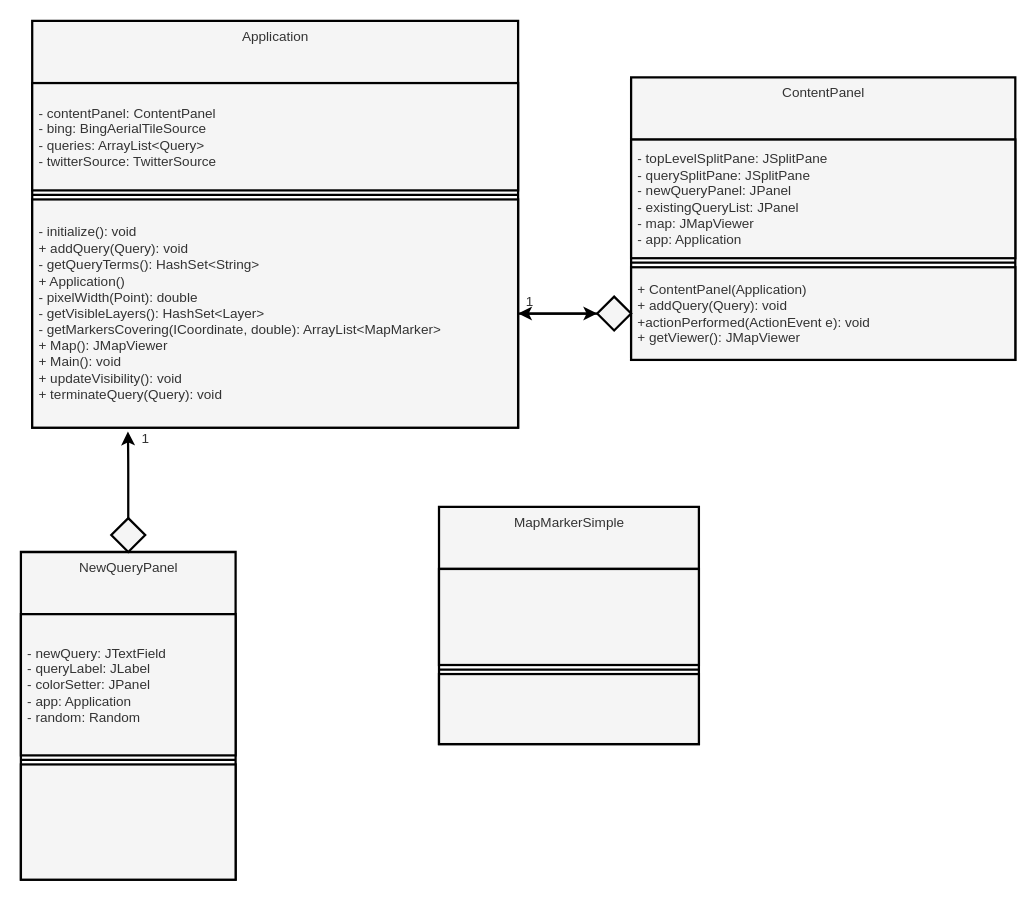
The diagram is 1035 pixels wide and 899 high, and some of its shapes have lost their labels. The centre of each missing label's shape, as x and y in pixels:
"+ defaultMakrerSize: double + defaultColor: Color" goes at point (568, 616).
"+ MapMarkerSimple(Layer, Coordinate)" goes at point (568, 708).
"+ NewQueryPanel(Application) - addQuery(String): void + getRandomColor(): Color" goes at point (127, 821).
